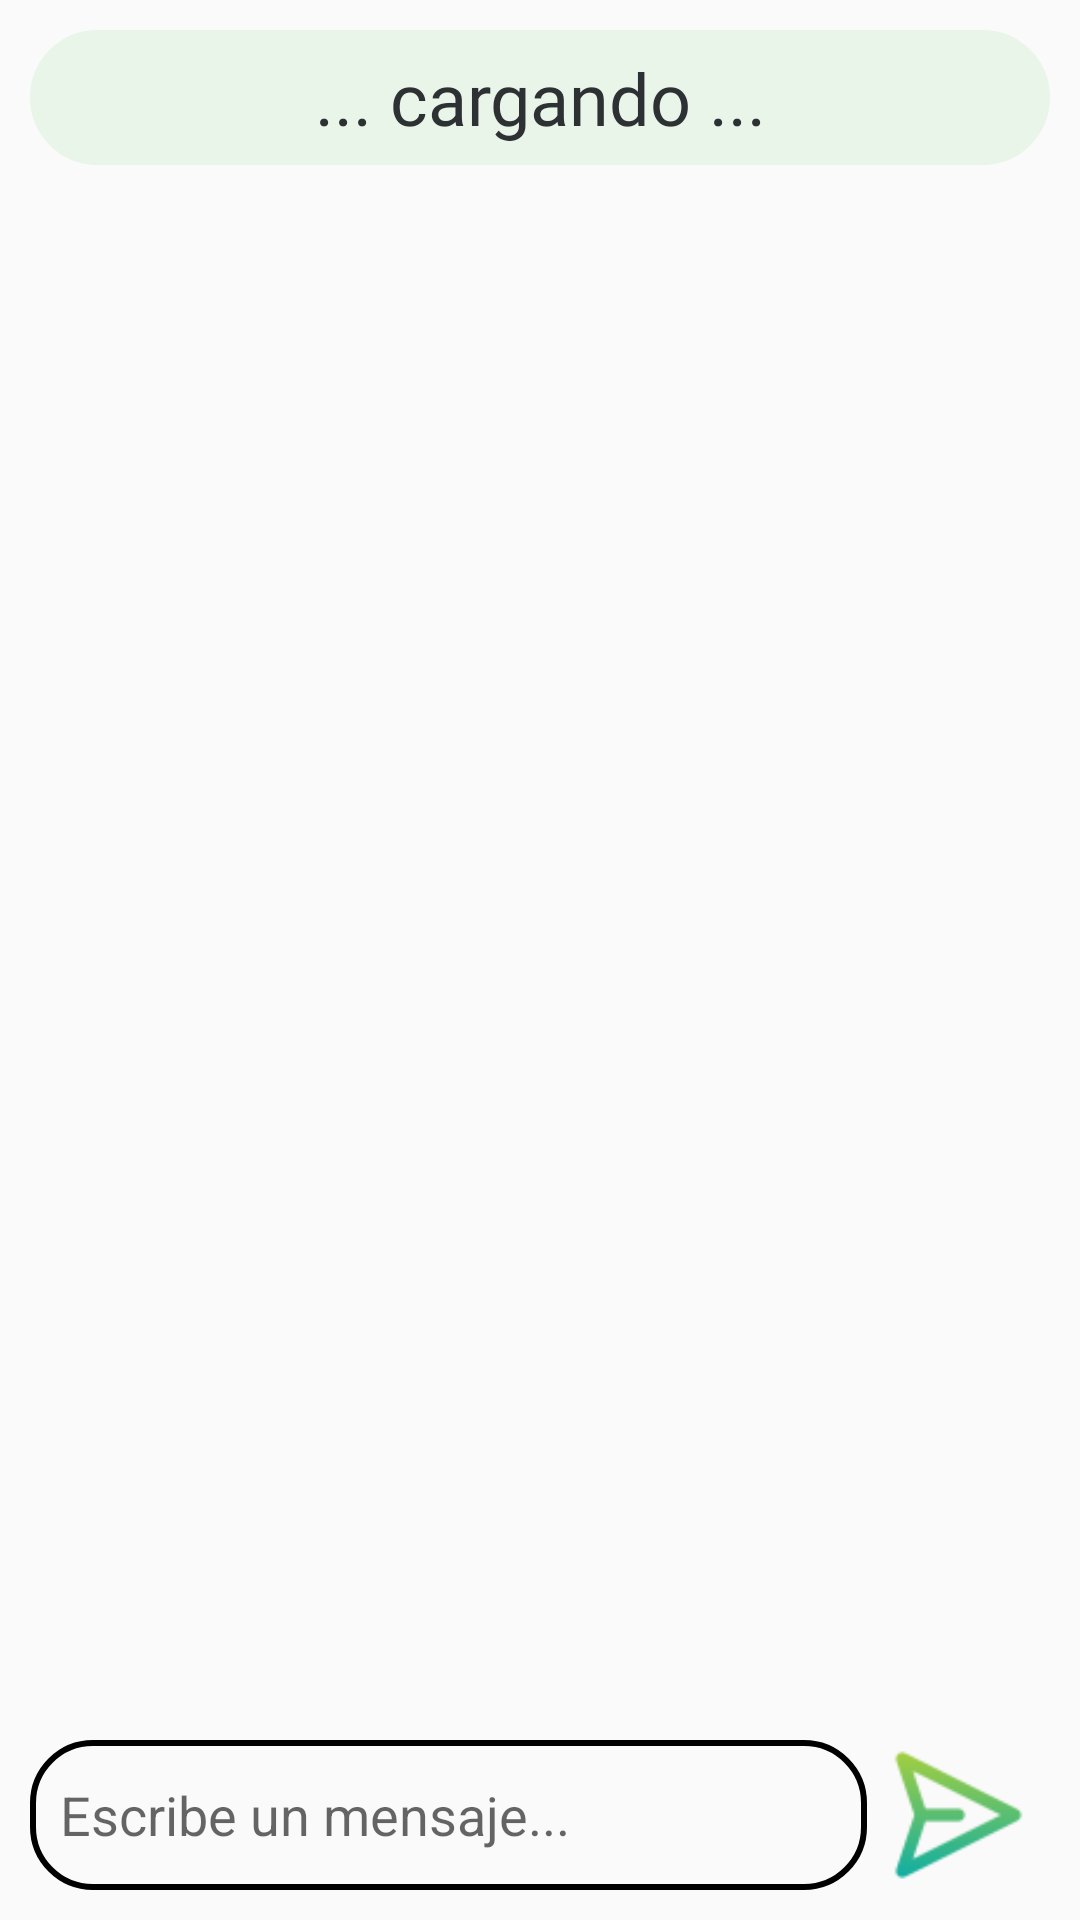

Icon bounding boxes for this 1080w x 1920h phone screenshot, format (x1=x1, y1=y1, x2=x2, y2=y2):
send: (x1=894, y1=1751, x2=1022, y2=1879)
